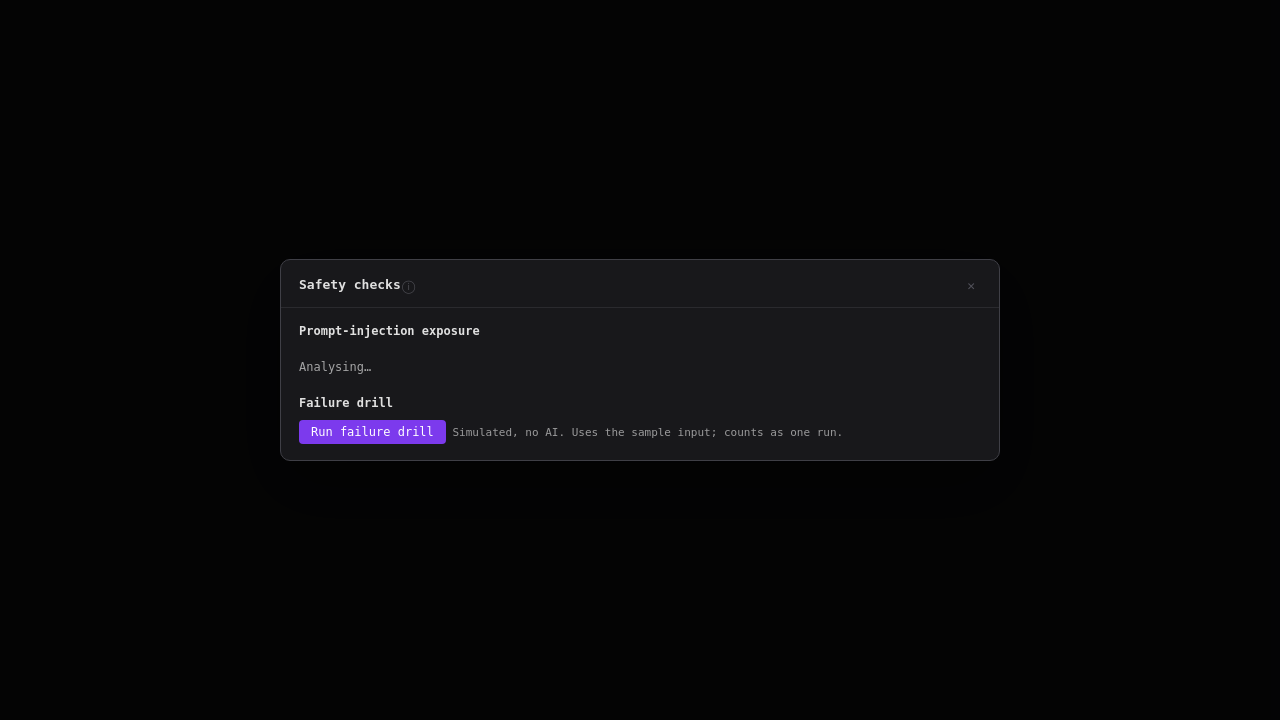
Scenario: SafetyModal — failure drill › reports each failure with its verdict and counts
Click the button "Run failure drill" at (372, 432), box [299, 420, 446, 444]
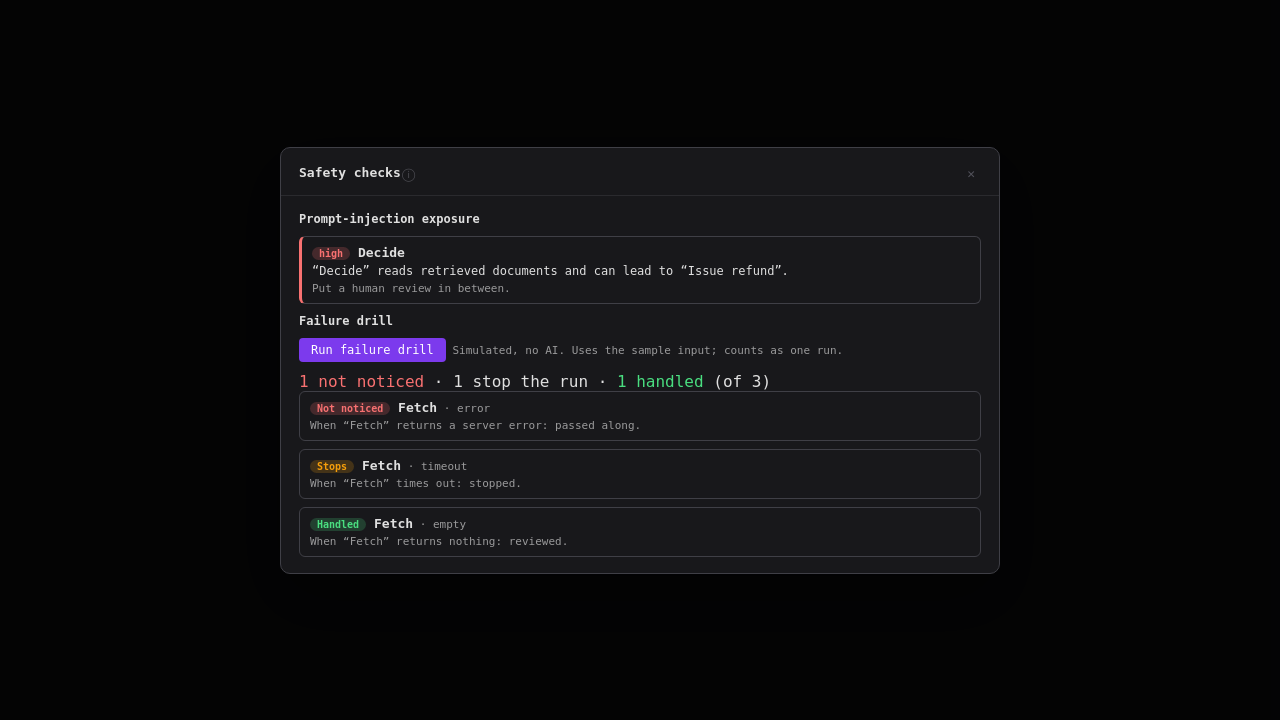
expect the number of list items with test id "drill-result" is 3: met, box [299, 390, 981, 440]; [299, 448, 981, 498]; [299, 506, 981, 556]
expect the list item with test id "drill-result" shows "Not noticed": met, box [317, 402, 383, 414]
expect the list item with test id "drill-result" shows "Stops": met, box [317, 460, 347, 472]
